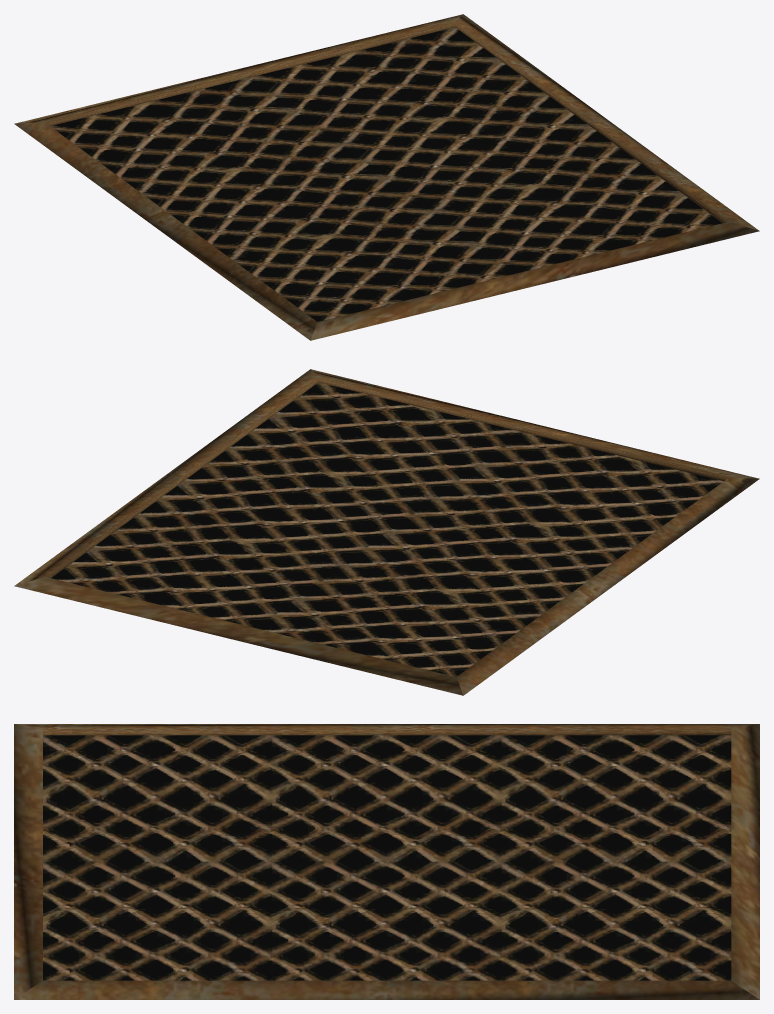
The model's file is DWARF_PALACE_MAINHALL_THRONEVENT02.fbx.
3 views of the same model, one above another, from view 1: azimuth 30°, elevation 25°; view 2: azimuth 150°, elevation 25°; view 3: azimuth 270°, elevation 25° (orthographic). The views are drawn at different scales.
Visible parts, largest first — view 1: DWARF_PALACE_MAINHALL_THRONEVENT02; view 2: DWARF_PALACE_MAINHALL_THRONEVENT02; view 3: DWARF_PALACE_MAINHALL_THRONEVENT02.
Part boxes in pixels (x1,y1,x2,y2): DWARF_PALACE_MAINHALL_THRONEVENT02: [14, 14, 759, 340]; DWARF_PALACE_MAINHALL_THRONEVENT02: [14, 369, 759, 695]; DWARF_PALACE_MAINHALL_THRONEVENT02: [14, 724, 759, 999].
Size of the model in its own units: 35011 by 866 by 40000.
2 materials, 2 textured.
